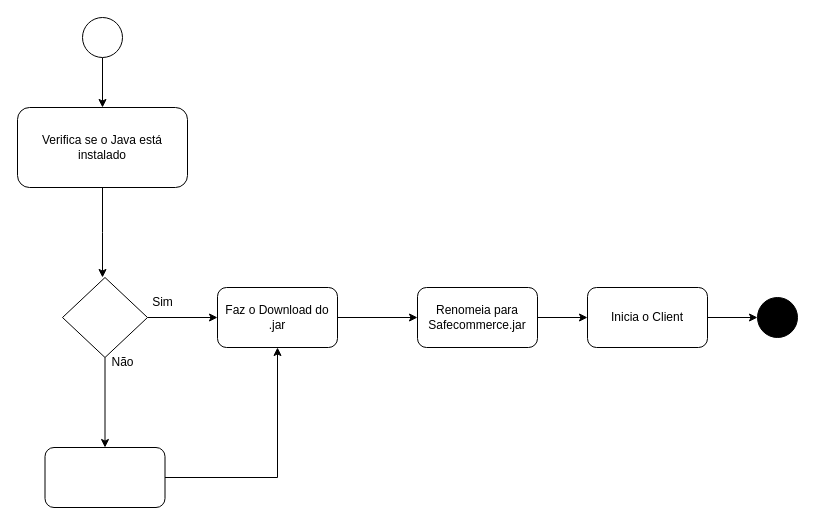
This 815x525 diagram has some shape labels left out. The centre of each missing label's shape, as x and y in pixels:
"Instala o Java" goes at pixel 104 477.
"Java instalado?" goes at pixel 105 317.
